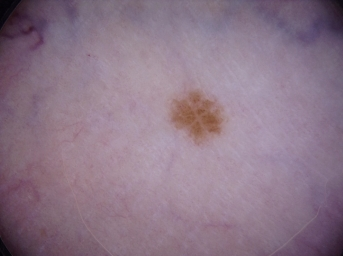melanoma: (171, 92, 221, 143)
